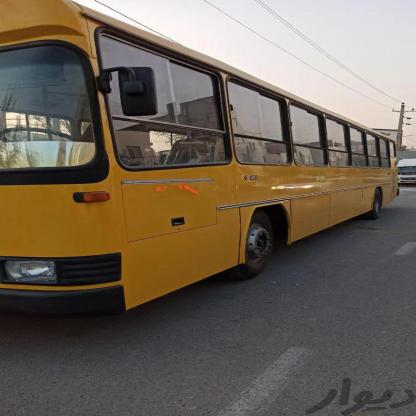Bus: (0, 0, 411, 332)
